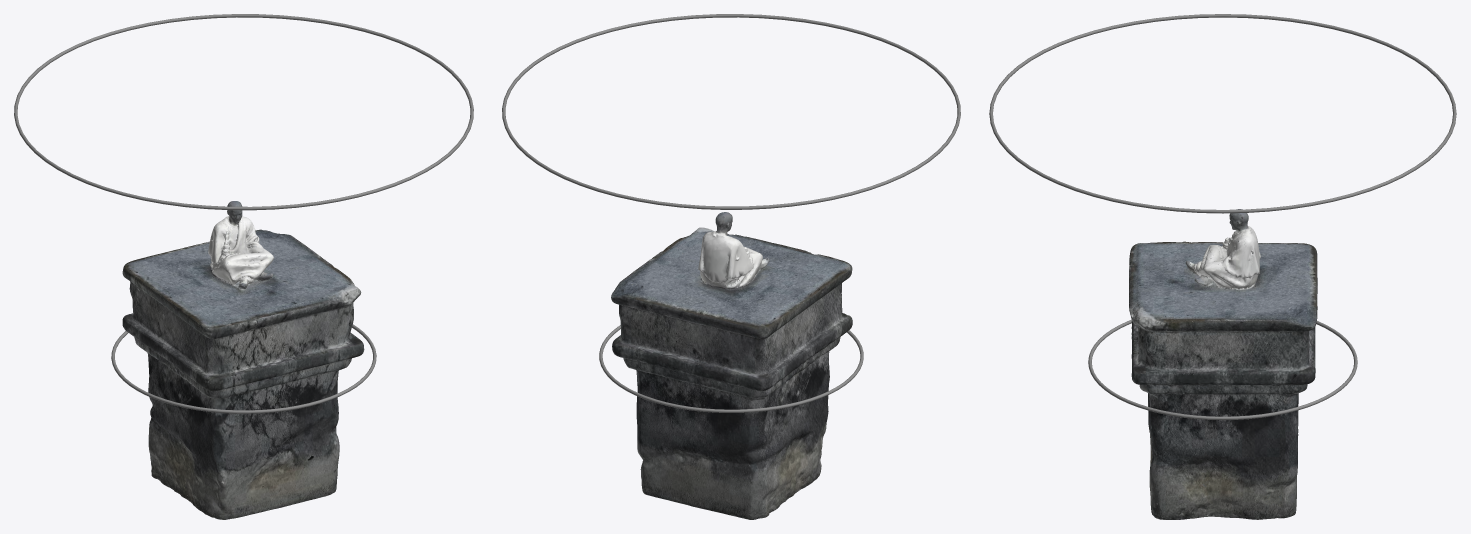
Rendered from monk.glb.
3 views of the same model, side by side, from view 1: azimuth 30°, elevation 25°; view 2: azimuth 150°, elevation 25°; view 3: azimuth 270°, elevation 25° (orthographic).
Visible parts, largest first — view 1: mesh_node, Torus, Torus.002; view 2: mesh_node, Torus, Torus.002; view 3: mesh_node, Torus, Torus.002.
Boxes of the visible parts, box(x1,y1,x2,y2) form: mesh_node: box(122, 201, 364, 519); Torus: box(14, 14, 473, 210); Torus.002: box(111, 324, 376, 413); mesh_node: box(611, 212, 852, 519); Torus: box(502, 14, 960, 209); Torus.002: box(599, 325, 863, 412); mesh_node: box(1129, 209, 1317, 519); Torus: box(989, 14, 1456, 213); Torus.002: box(1088, 319, 1357, 420).
Bounding box in the file's own units: 2.88 × 2.57 × 2.88.
Materials: 2 (1 with a texture image).
